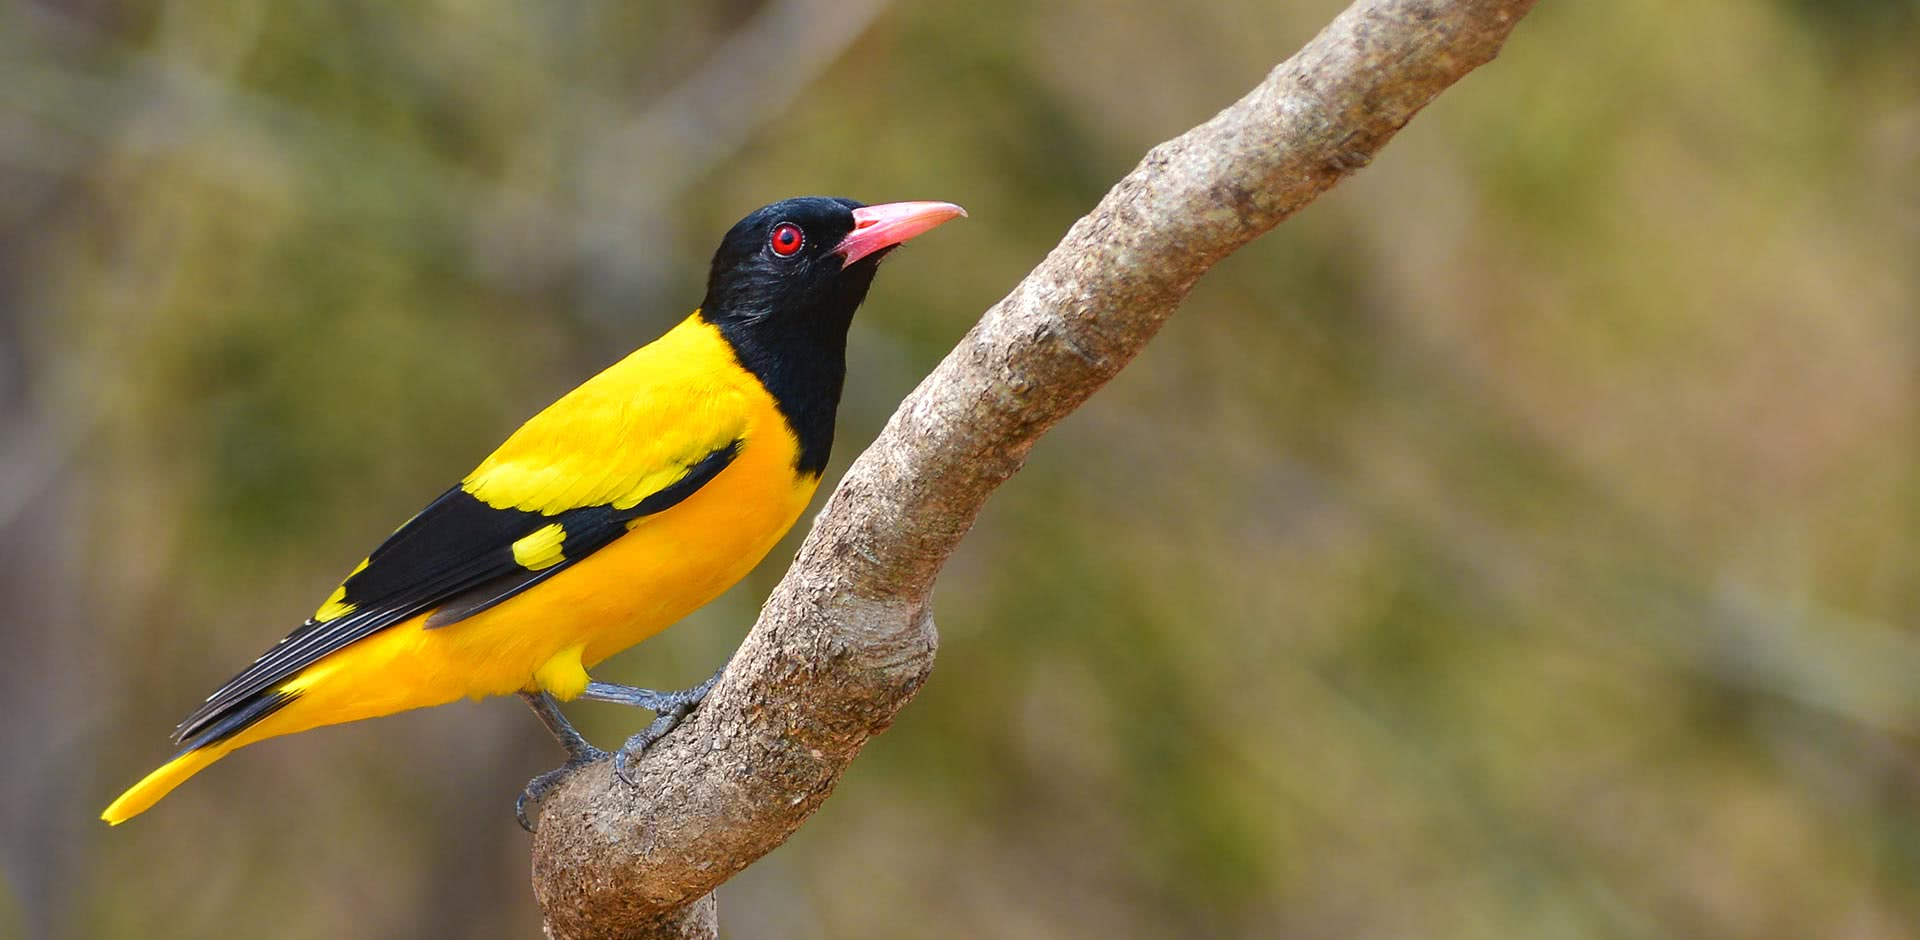bird: (78, 130, 1014, 869)
